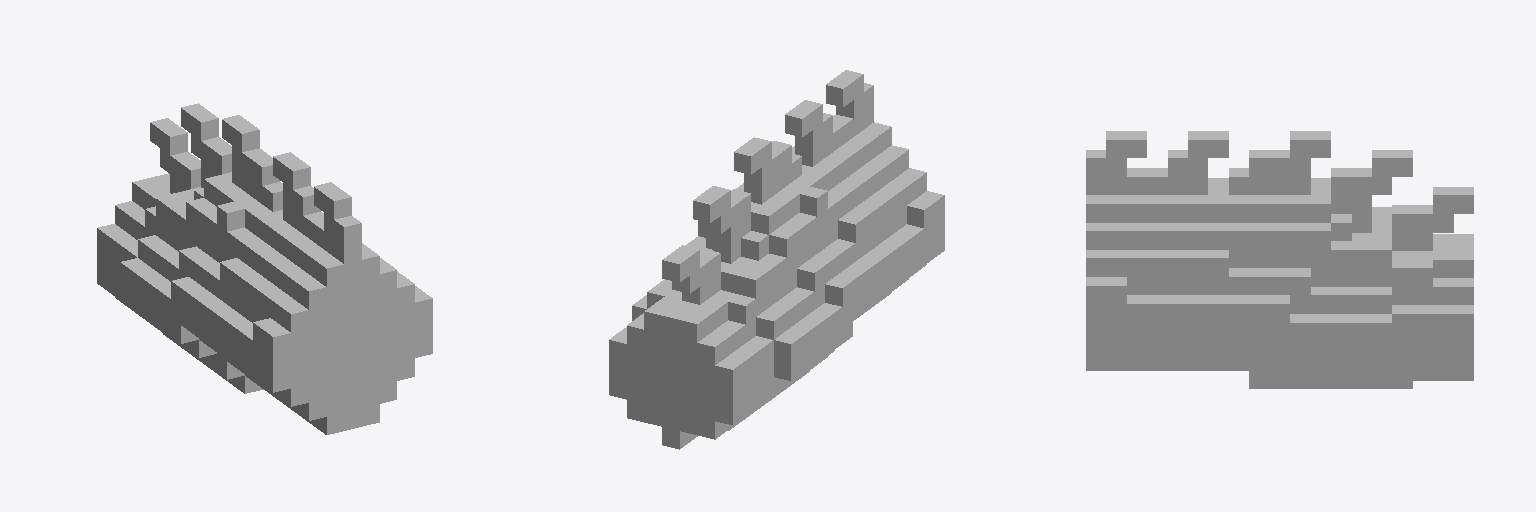
The model's file is LizardMan BOSS tail 3.obj.
The picture shows the model from 3 angles: view 1: azimuth 30°, elevation 25°; view 2: azimuth 150°, elevation 25°; view 3: azimuth 270°, elevation 25°; orthographic projection.
Size of the model in its own units: 9 by 13 by 19.